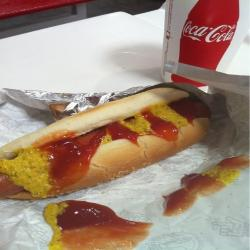hotdog: (2, 86, 223, 190)
ketchup: (54, 197, 150, 244), (32, 128, 113, 183)
